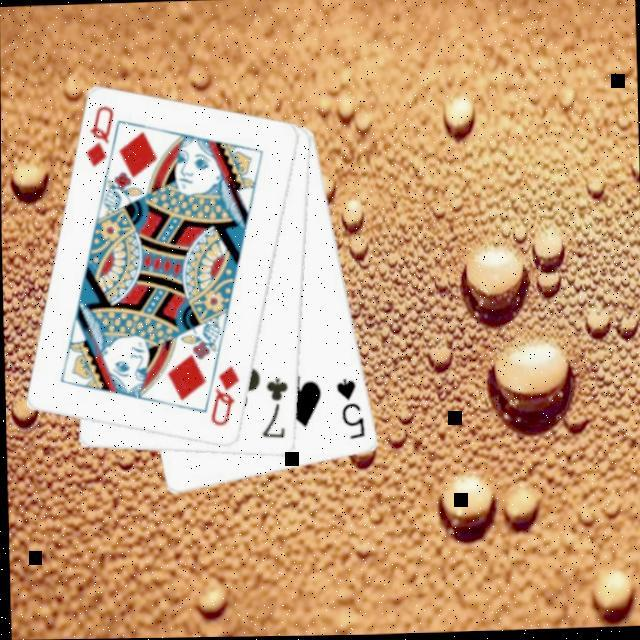5S: (330, 373, 365, 442)
7C: (255, 374, 289, 441)
QD: (79, 100, 116, 170), (204, 360, 241, 429)
